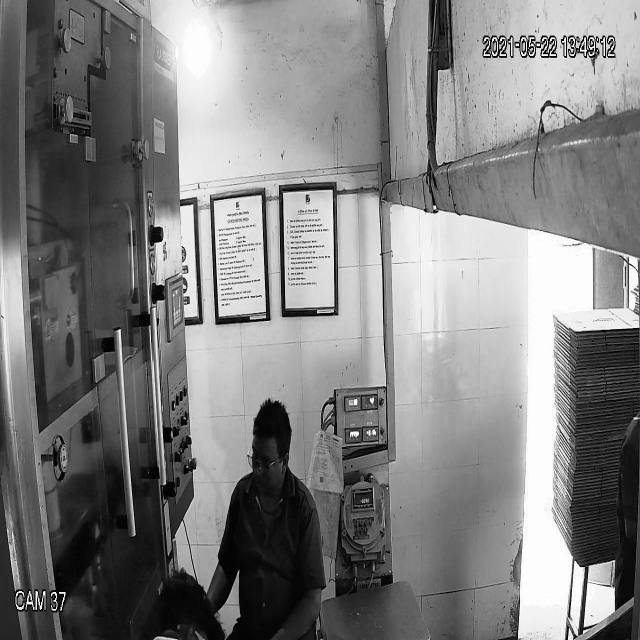Gafas: (242, 437, 289, 473)
